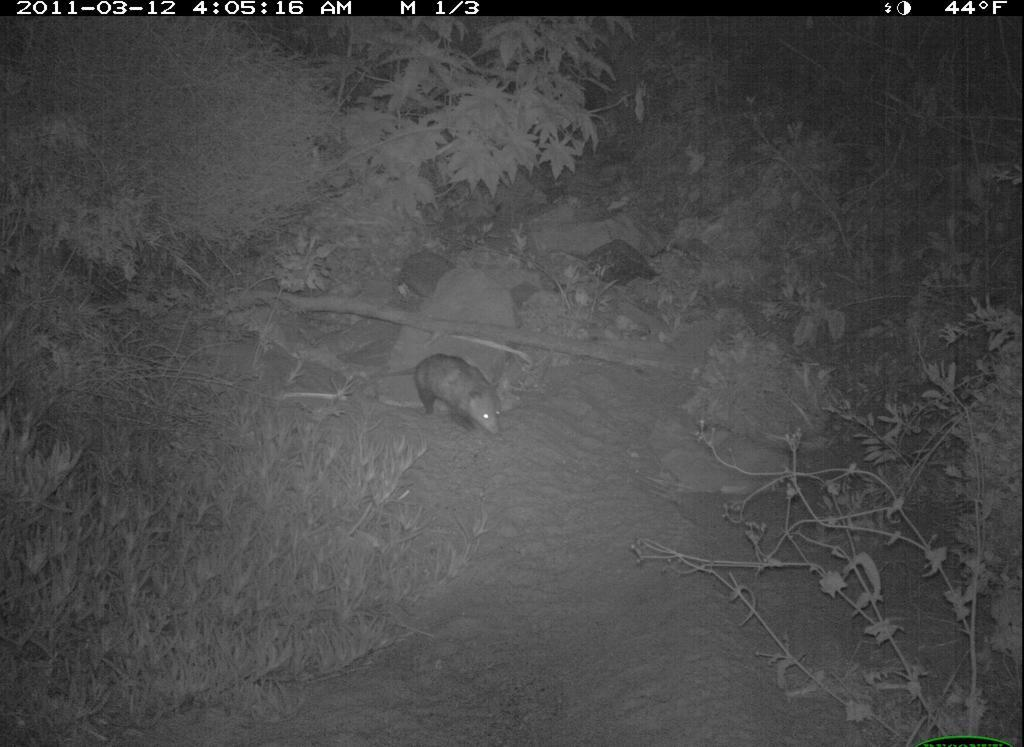opossum: (383, 345, 514, 447)
